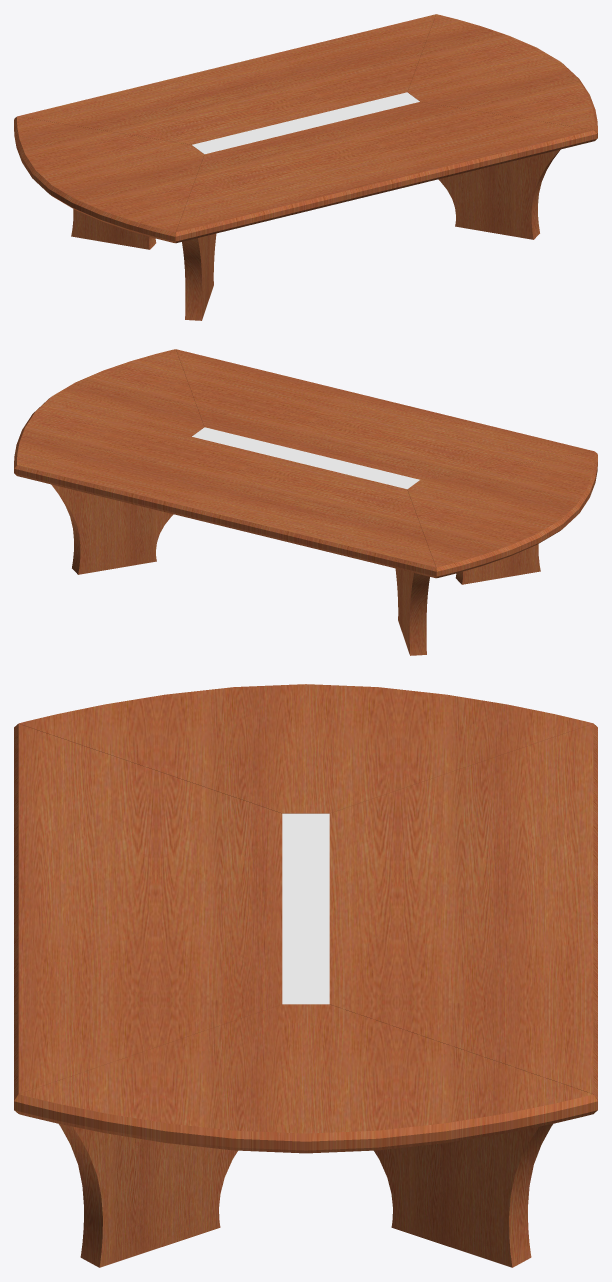
The model's file is Table01.glb.
3 renders of one model, top to bottom at view 1: azimuth 30°, elevation 25°; view 2: azimuth 150°, elevation 25°; view 3: azimuth 270°, elevation 25°, orthographic. The views are drawn at different scales.
Parts seen in each view (by area): view 1: Conf_Table02.001; view 2: Conf_Table02.001; view 3: Conf_Table02.001.
Boxes of the visible parts, x1=… form: Conf_Table02.001: x1=14, y1=14, x2=597, y2=320; Conf_Table02.001: x1=14, y1=349, x2=597, y2=655; Conf_Table02.001: x1=14, y1=684, x2=597, y2=1267.
Size of the model in its own units: 1.85 by 0.3843 by 1.01.
Materials: 3 (2 with a texture image).
